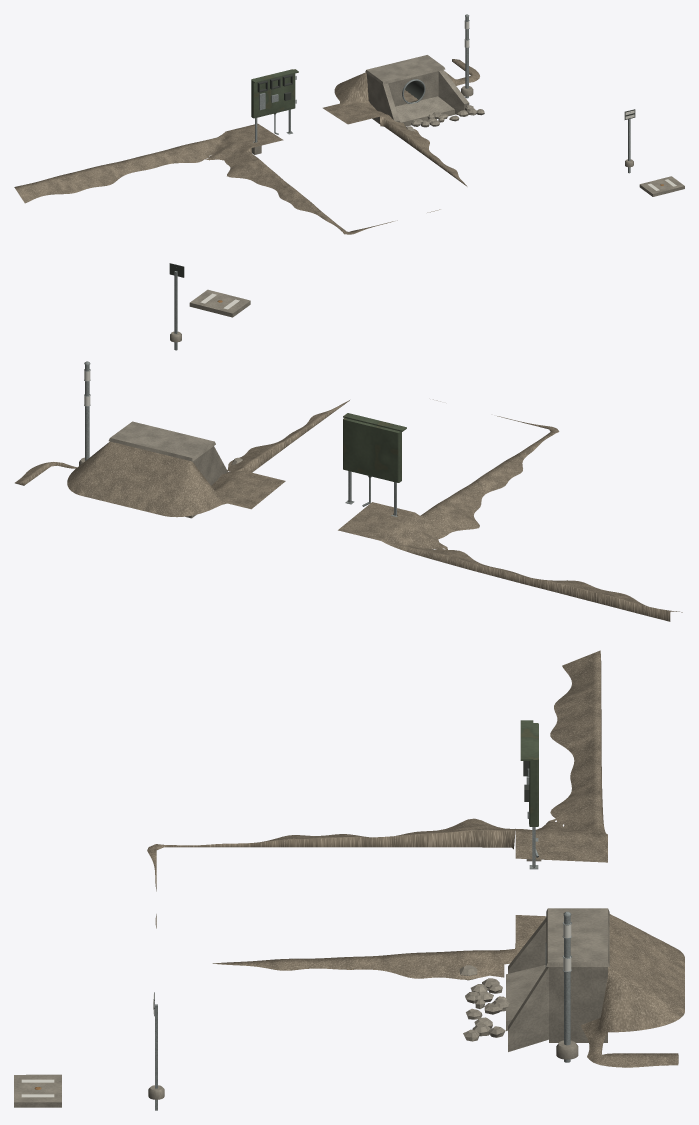
Rendered from Substation_Field.glb.
3 views of the same model, one above another, from view 1: azimuth 30°, elevation 25°; view 2: azimuth 150°, elevation 25°; view 3: azimuth 270°, elevation 25° (orthographic). The views are drawn at different scales.
Parts seen in each view (by area): view 1: SM_SubstationField_ApronGrade, SM_SubstationField_Culvert, SM_SubstationField_TestFixture, SM_SubstationField_Reference; view 2: SM_SubstationField_ApronGrade, SM_SubstationField_TestFixture, SM_SubstationField_Culvert, SM_SubstationField_Reference; view 3: SM_SubstationField_ApronGrade, SM_SubstationField_Culvert, SM_SubstationField_Reference, SM_SubstationField_TestFixture.
Boxes of the visible parts, x1,y1,x2,y2 form: SM_SubstationField_ApronGrade: (14, 59, 479, 234); SM_SubstationField_Culvert: (365, 55, 484, 131); SM_SubstationField_TestFixture: (251, 69, 298, 154); SM_SubstationField_Reference: (461, 14, 684, 196); SM_SubstationField_ApronGrade: (15, 399, 682, 621); SM_SubstationField_TestFixture: (343, 413, 406, 516); SM_SubstationField_Culvert: (108, 421, 242, 518); SM_SubstationField_Reference: (79, 263, 250, 465); SM_SubstationField_ApronGrade: (147, 650, 684, 1067); SM_SubstationField_Culvert: (459, 908, 609, 1051); SM_SubstationField_Reference: (14, 911, 578, 1110); SM_SubstationField_TestFixture: (520, 720, 541, 869).
Size of the model in its own units: 14.25 by 2.32 by 9.06.
Materials: 7 (4 with a texture image).
